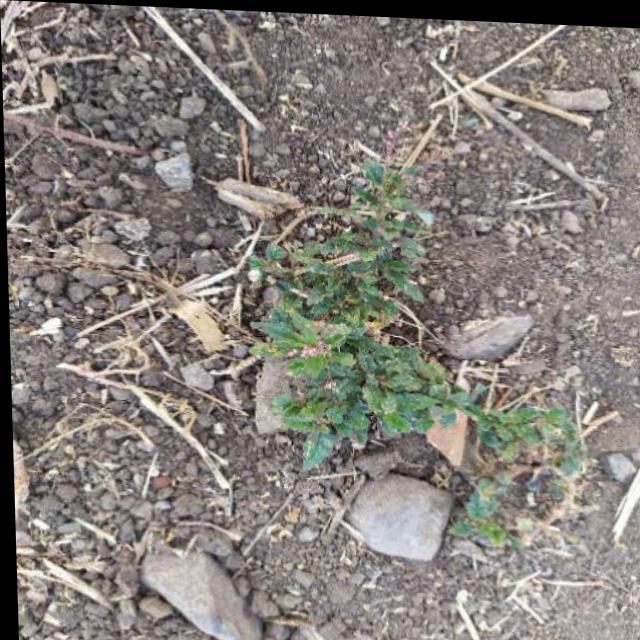weed: (231, 108, 588, 526)
